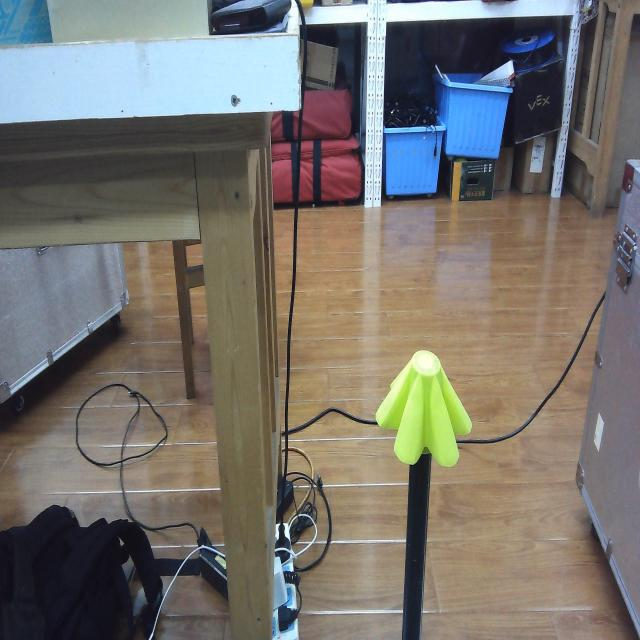Yellow-Stake-Head: (375, 348, 472, 466)
